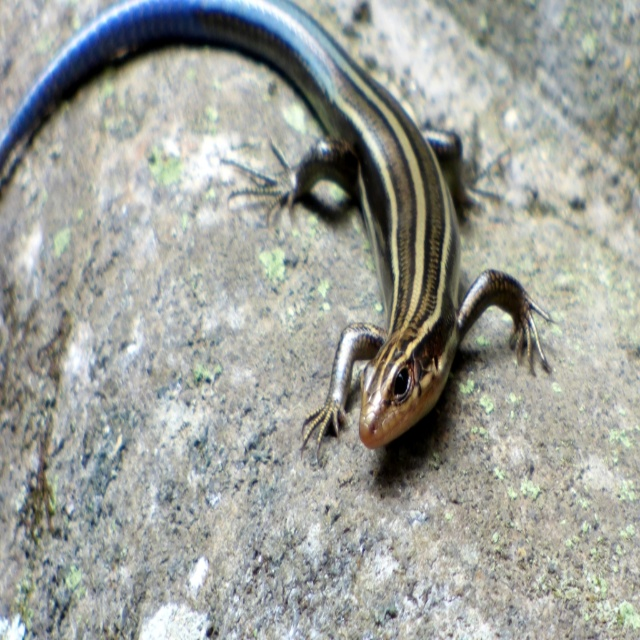Lizard: (27, 32, 496, 501)
